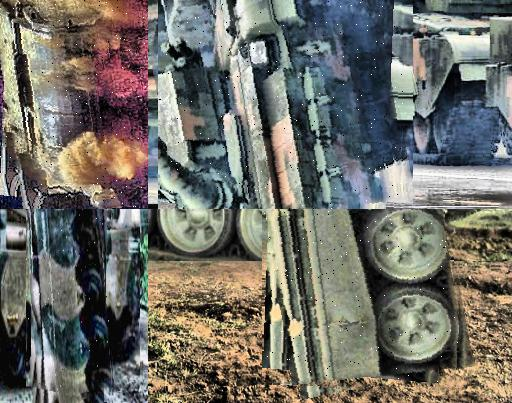tanks: (160, 1, 403, 210), (265, 210, 460, 388), (318, 1, 512, 165), (1, 1, 149, 210), (27, 210, 113, 397)
